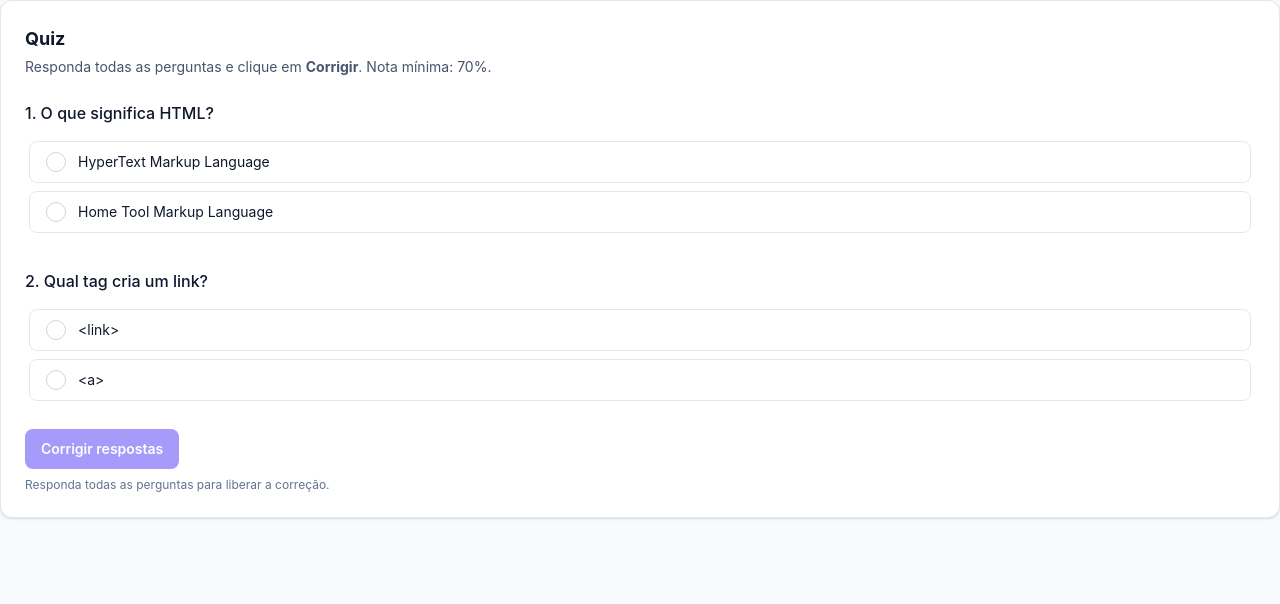
Test: QuizCard › mostra feedback certo/errado e a nota após enviar
Click the radio button "HyperText Markup Language": (174, 162) [29,141,1251,183]
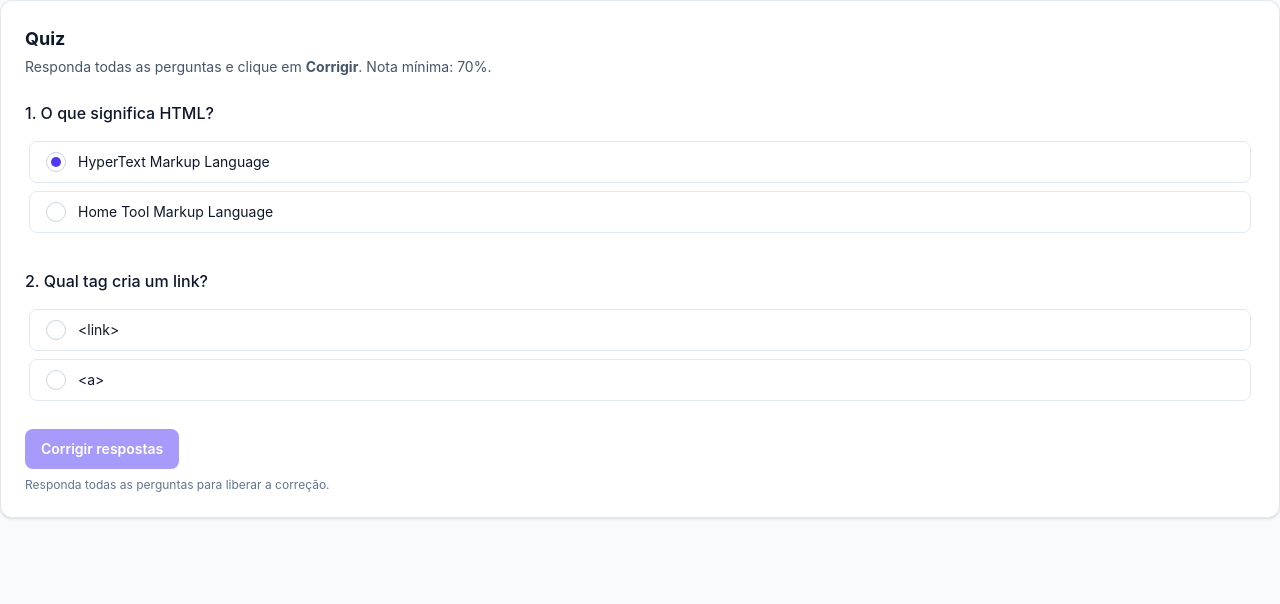
Click the radio button "<a>": (56, 380) [29,359,1251,401]
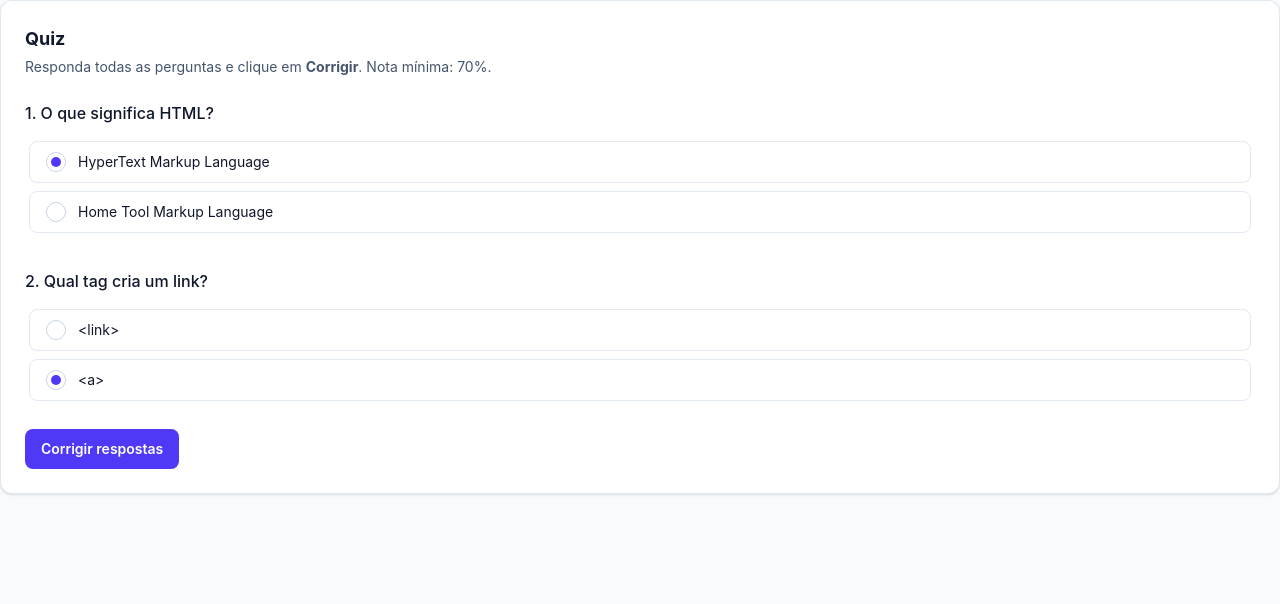
Click the button "Corrigir respostas": (102, 449) [25,429,179,469]
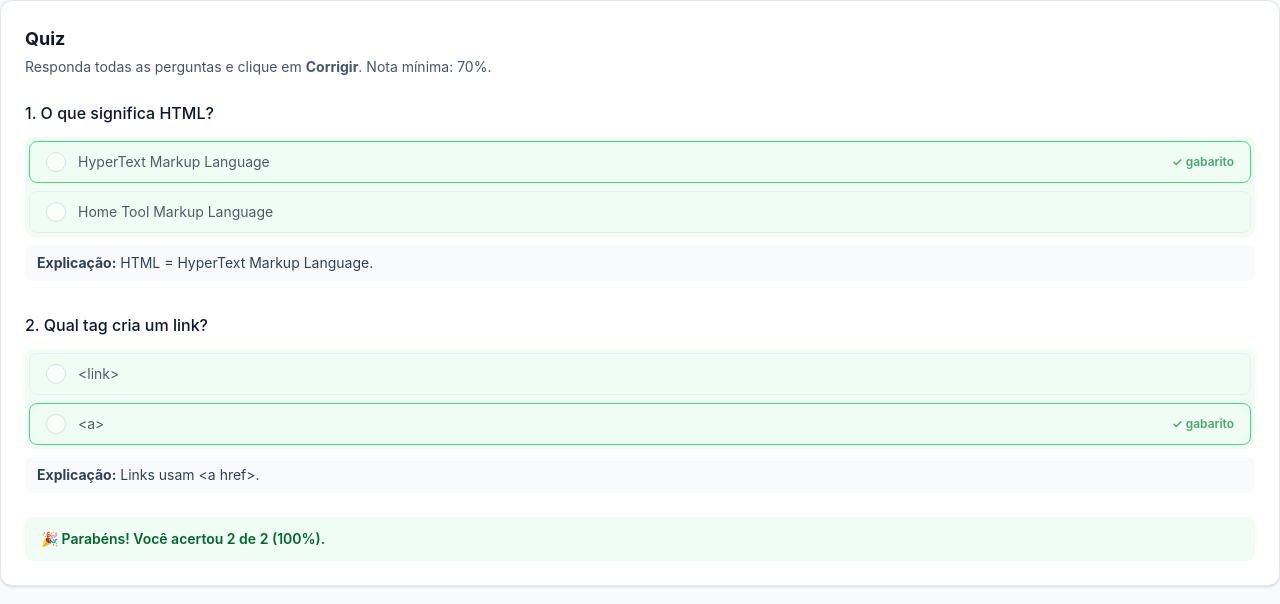
Now the text "🎉 Parabéns! Você acertou 2 de 2 (100%)." is shown, box [41,530,325,547]
Now the text "Explicação: HTML = HyperText Markup Language." is shown, box [25,245,1255,281]
Now the button "Corrigir respostas" is gone
